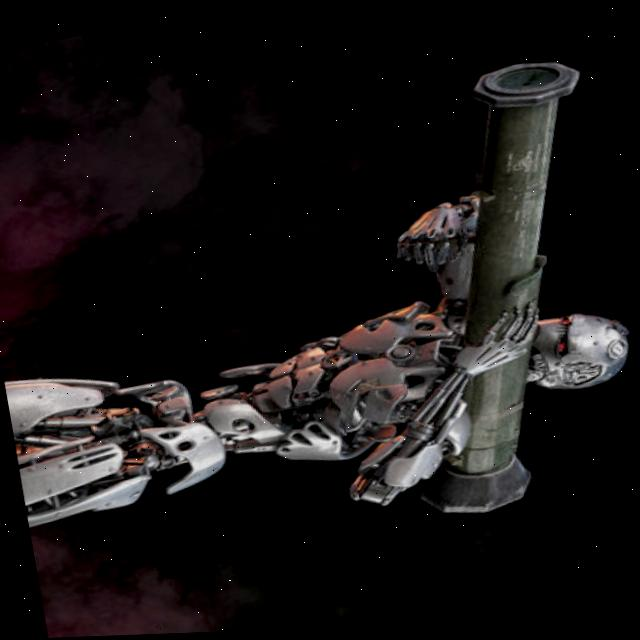rocket: (350, 53, 640, 528)
